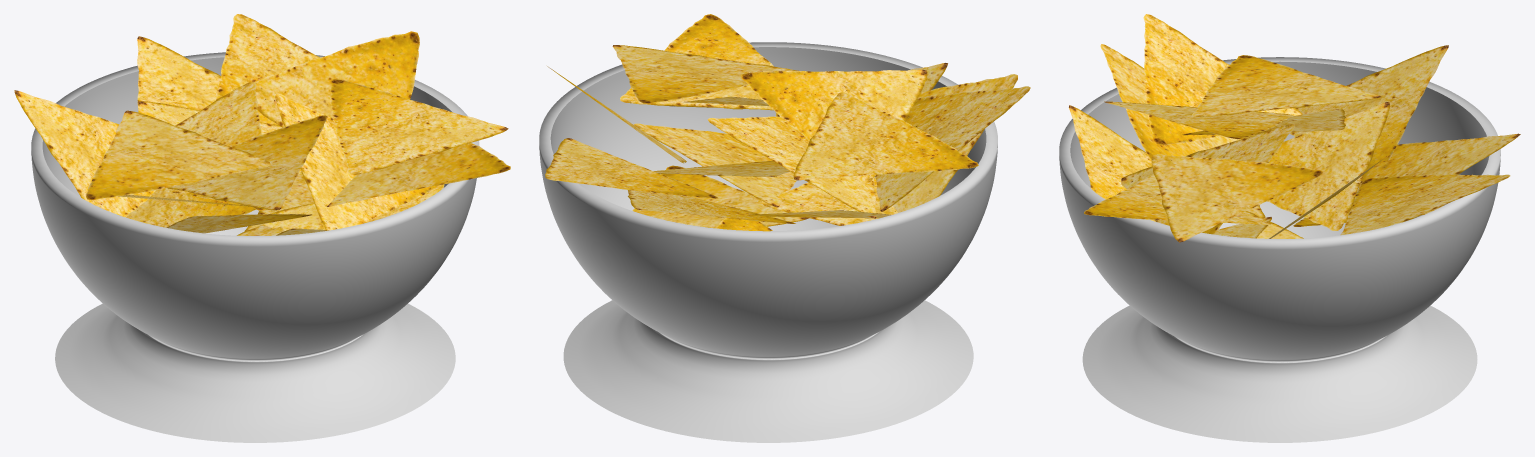
File: nachos.glb
3 renders of one model, left to right at view 1: azimuth 30°, elevation 25°; view 2: azimuth 150°, elevation 25°; view 3: azimuth 270°, elevation 25°, orthographic. The views are drawn at different scales.
Parts seen in each view (by area): view 1: Sphere, Plane.015, Plane.017, Plane.005, Plane.013, Plane.007, Plane.003, Plane.014, Plane.016, Plane, Plane.002, Plane.010 (+4 smaller); view 2: Sphere, Plane.017, Plane.013, Plane.012, Plane.015, Plane.002, Plane.016, Plane.008, Plane.014, Plane.011, Plane.006, Plane (+6 smaller); view 3: Sphere, Plane.015, Plane.001, Plane.012, Plane.017, Plane.016, Plane.007, Plane, Plane.004, Plane.006, Plane.013, Plane.014 (+3 smaller).
Boxes of the visible parts, bbox=[...] form: Sphere: bbox=[31, 52, 479, 442]; Plane.015: bbox=[330, 79, 508, 174]; Plane.017: bbox=[86, 110, 270, 200]; Plane.005: bbox=[240, 31, 419, 127]; Plane.013: bbox=[167, 115, 326, 210]; Plane.007: bbox=[14, 90, 155, 217]; Plane.003: bbox=[275, 94, 441, 230]; Plane.014: bbox=[327, 143, 510, 206]; Plane.016: bbox=[216, 14, 319, 124]; Plane: bbox=[137, 36, 220, 117]; Plane.002: bbox=[159, 82, 261, 199]; Plane.010: bbox=[126, 190, 256, 227]; Sphere: bbox=[539, 42, 997, 442]; Plane.017: bbox=[793, 92, 978, 180]; Plane.013: bbox=[741, 69, 927, 183]; Plane.012: bbox=[875, 86, 1030, 211]; Plane.015: bbox=[612, 45, 798, 103]; Plane.002: bbox=[707, 116, 876, 218]; Plane.016: bbox=[545, 138, 718, 198]; Plane.008: bbox=[634, 123, 797, 207]; Plane.014: bbox=[620, 14, 773, 110]; Plane.011: bbox=[632, 165, 808, 228]; Plane.006: bbox=[874, 74, 1017, 212]; Plane: bbox=[628, 190, 795, 223]; Sphere: bbox=[1059, 57, 1500, 442]; Plane.015: bbox=[1151, 154, 1323, 242]; Plane.001: bbox=[1267, 102, 1389, 230]; Plane.012: bbox=[1143, 14, 1302, 145]; Plane.017: bbox=[1192, 55, 1380, 116]; Plane.016: bbox=[1340, 174, 1510, 235]; Plane.007: bbox=[1289, 45, 1448, 163]; Plane: bbox=[1358, 133, 1520, 187]; Plane.004: bbox=[1069, 105, 1155, 221]; Plane.006: bbox=[1100, 44, 1243, 161]; Plane.013: bbox=[1104, 101, 1293, 139]; Plane.014: bbox=[1084, 174, 1270, 224].
Bounding box in the file's own units: 0.8465 × 0.5298 × 0.8662.
2 materials, 1 textured.
